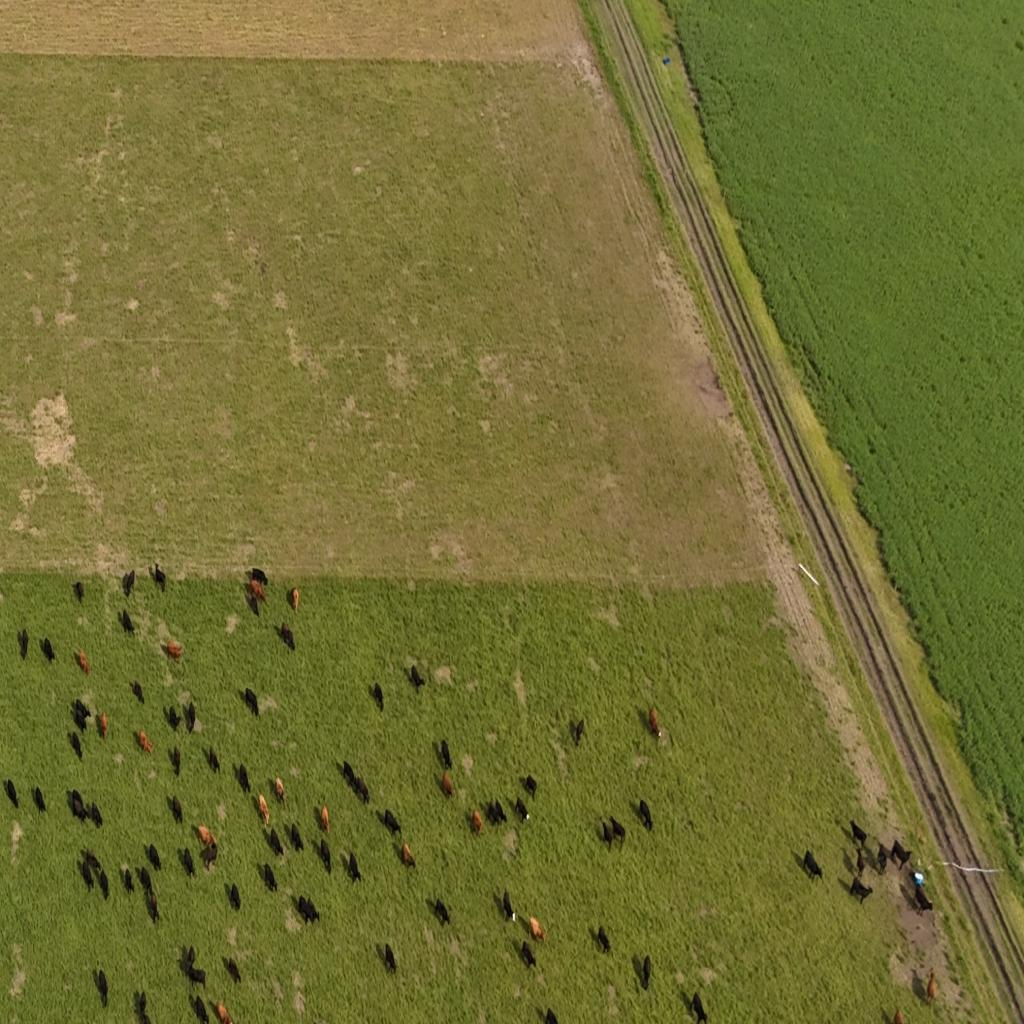cow: (850, 875, 874, 907), (890, 838, 912, 872), (803, 849, 824, 883), (913, 882, 933, 917), (298, 895, 320, 925), (72, 699, 91, 733), (196, 824, 217, 852), (608, 816, 626, 848), (850, 820, 869, 850), (136, 990, 152, 1024), (486, 800, 506, 827), (83, 849, 101, 879), (692, 991, 708, 1024), (180, 846, 196, 879), (71, 790, 87, 822), (202, 838, 218, 870), (383, 809, 401, 837), (250, 578, 268, 606), (638, 799, 653, 832), (434, 898, 450, 928), (193, 994, 209, 1024), (187, 964, 207, 988), (529, 916, 546, 944), (521, 940, 536, 970), (244, 687, 259, 717), (347, 852, 361, 884), (341, 760, 357, 788), (226, 956, 241, 985), (263, 862, 277, 893), (148, 843, 162, 874), (270, 827, 284, 858), (138, 866, 152, 897), (514, 797, 530, 824), (5, 778, 19, 808), (280, 624, 295, 652), (69, 731, 83, 761), (320, 838, 332, 873), (384, 943, 397, 975), (138, 729, 154, 755), (502, 889, 514, 923), (147, 890, 159, 924), (258, 793, 270, 827), (597, 925, 611, 954), (356, 776, 370, 805), (876, 843, 889, 874), (410, 665, 426, 690), (98, 968, 108, 1008), (290, 824, 304, 852), (215, 1001, 232, 1024), (153, 561, 166, 591), (601, 820, 614, 850), (98, 865, 109, 900), (440, 738, 452, 770), (238, 762, 250, 794), (185, 702, 197, 734), (250, 567, 268, 588), (168, 705, 182, 732), (229, 882, 241, 913), (122, 570, 135, 598), (524, 774, 538, 800), (402, 842, 416, 868), (90, 800, 103, 828), (171, 795, 183, 825), (649, 706, 660, 738), (926, 970, 937, 1002), (642, 954, 652, 989), (372, 682, 384, 711), (122, 866, 134, 895), (166, 640, 183, 660), (42, 637, 55, 663), (121, 608, 134, 634), (572, 718, 584, 746), (34, 786, 46, 814), (471, 809, 483, 836), (320, 804, 330, 836), (77, 650, 90, 674), (19, 628, 29, 659), (171, 745, 181, 776), (208, 745, 219, 773), (442, 772, 453, 799), (248, 589, 259, 616), (856, 850, 866, 878), (132, 680, 144, 703), (74, 580, 85, 604), (275, 776, 285, 802), (99, 712, 108, 740), (185, 945, 195, 970), (545, 1006, 558, 1024), (291, 586, 299, 610), (892, 1008, 904, 1024)
